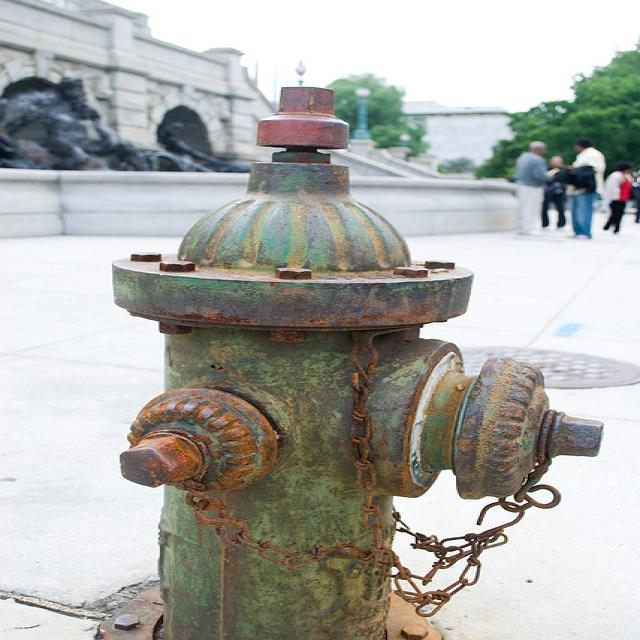fire_hydrant: (80, 84, 610, 630)
